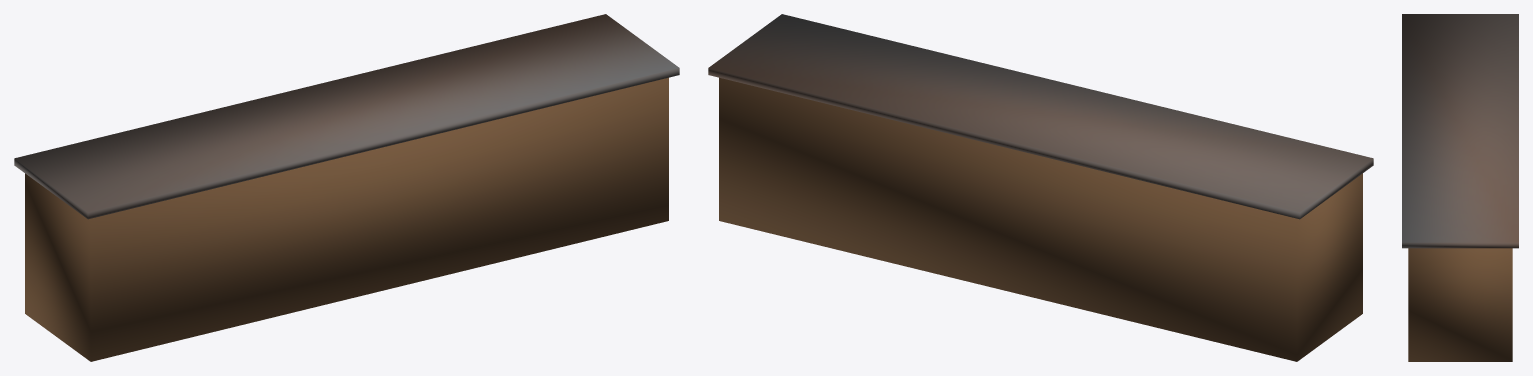
The model's file is Meja_Resepsionis.fbx.
The picture shows the model from 3 angles, left to right: view 1: azimuth 30°, elevation 25°; view 2: azimuth 150°, elevation 25°; view 3: azimuth 270°, elevation 25°; orthographic projection. The views are drawn at different scales.
Parts seen in each view (by area): view 1: Meja_Resepsionis; view 2: Meja_Resepsionis; view 3: Meja_Resepsionis.
Boxes of the visible parts, x1=… form: Meja_Resepsionis: x1=14, y1=14, x2=679, y2=361; Meja_Resepsionis: x1=708, y1=14, x2=1373, y2=361; Meja_Resepsionis: x1=1402, y1=14, x2=1518, y2=361.
Size of the model in its own units: 4.4 by 1.1 by 0.95.
